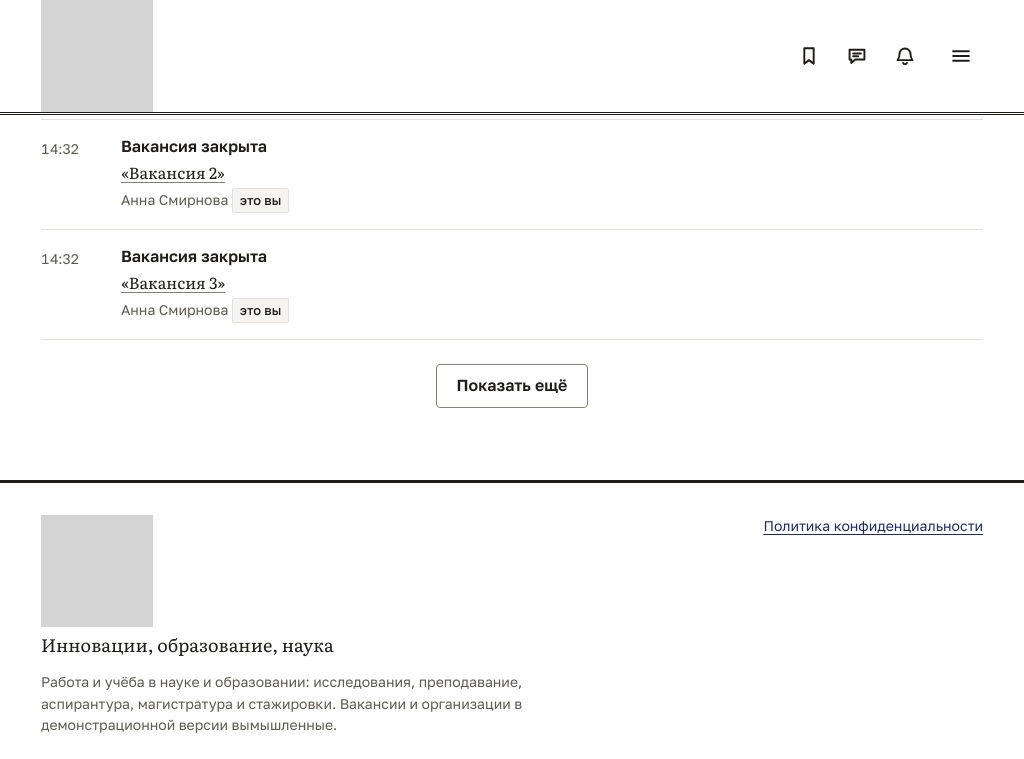
audit log page › loads the next page from the cursor and keeps the earlier entries
The image size is (1024, 759).
(page scrolled)
Expected: the link "«Вакансия 1»" is shown, [121, 50, 223, 74]
Click the button "Показать ещё".
click(512, 386)  # box [436, 364, 588, 408]
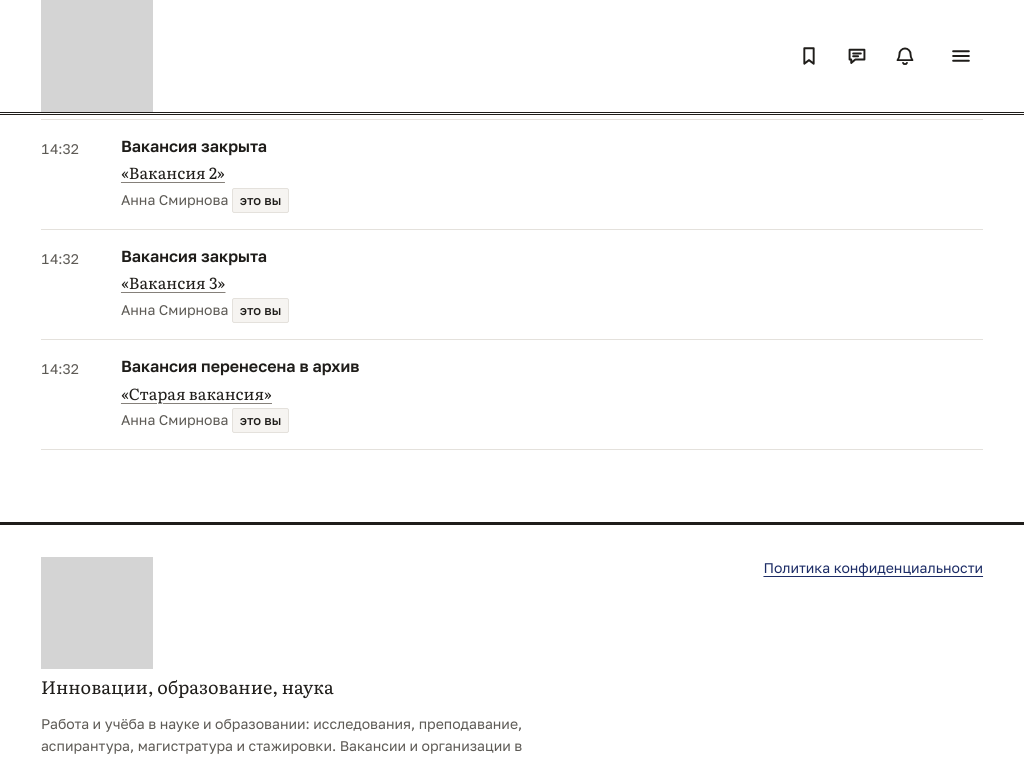
Expected: the link "«Вакансия 3»" is shown, [121, 270, 226, 294]
Expected: the text "Вакансия перенесена в архив" is shown, [121, 356, 359, 376]
Expected: the button "Показать ещё" is gone
